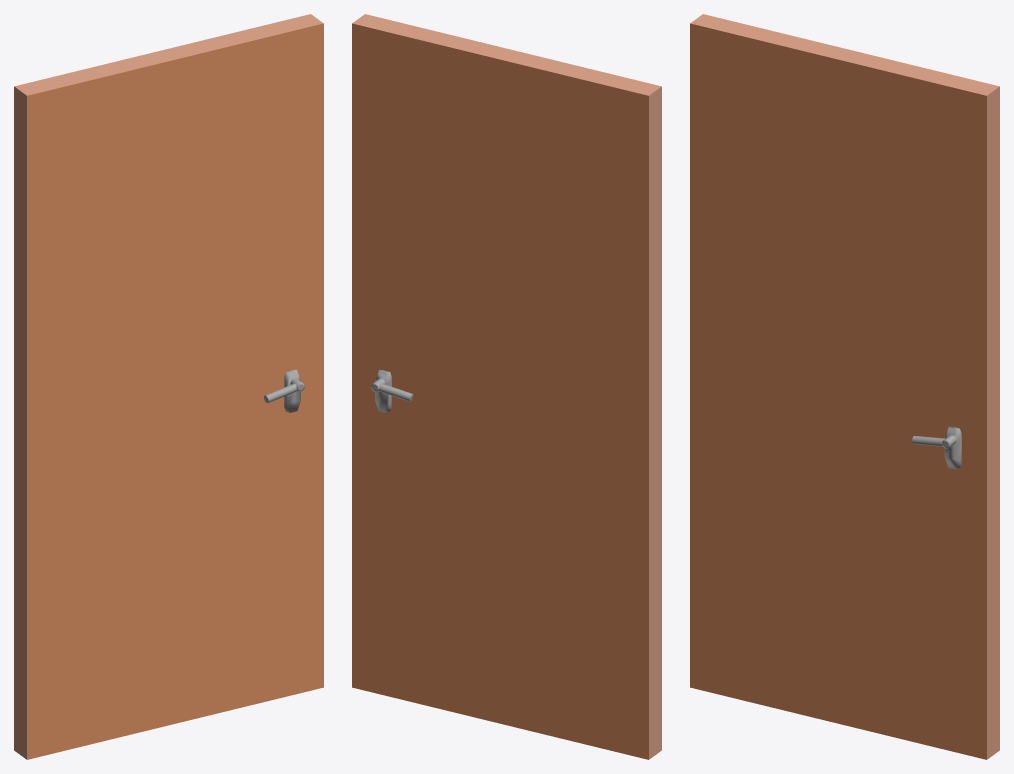
Rendered from Lokaaldeur Oranje.fbx.
3 views of the same model, side by side, from view 1: azimuth 30°, elevation 25°; view 2: azimuth 150°, elevation 25°; view 3: azimuth 330°, elevation 25° (orthographic).
Parts seen in each view (by area): view 1: pCube1; view 2: pCube1; view 3: pCube1, pCube2.
Part boxes in pixels (bbox=[...]): pCube1: bbox=[14, 14, 323, 759]; pCube1: bbox=[352, 14, 661, 759]; pCube1: bbox=[690, 14, 999, 759]; pCube2: bbox=[944, 426, 961, 469].
Size of the model in its own units: 10.69 by 22.86 by 1.98.
